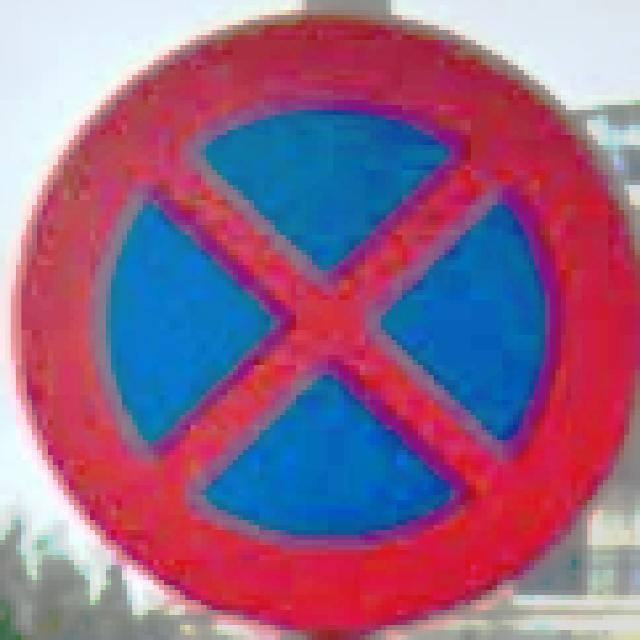nostop: (0, 0, 635, 635)
